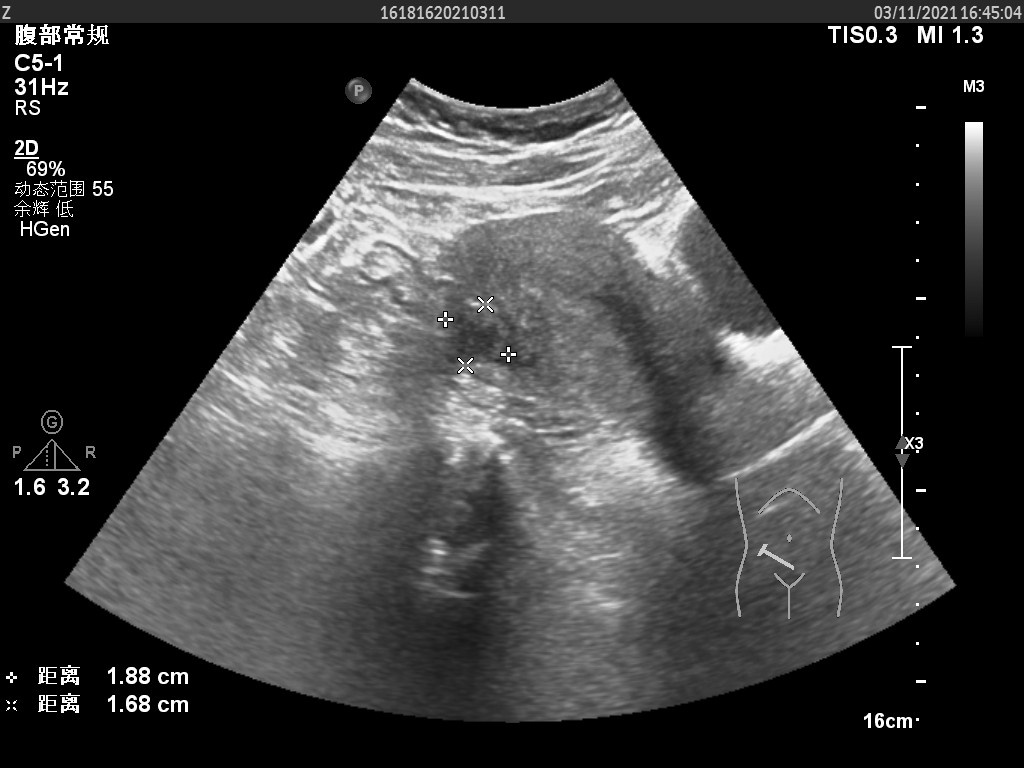肌瘤: (453, 307, 505, 361)
